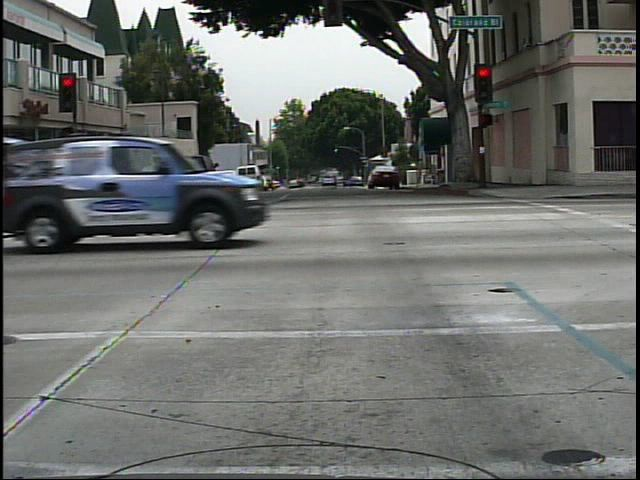person: (457, 140, 485, 196), (94, 153, 120, 202)
